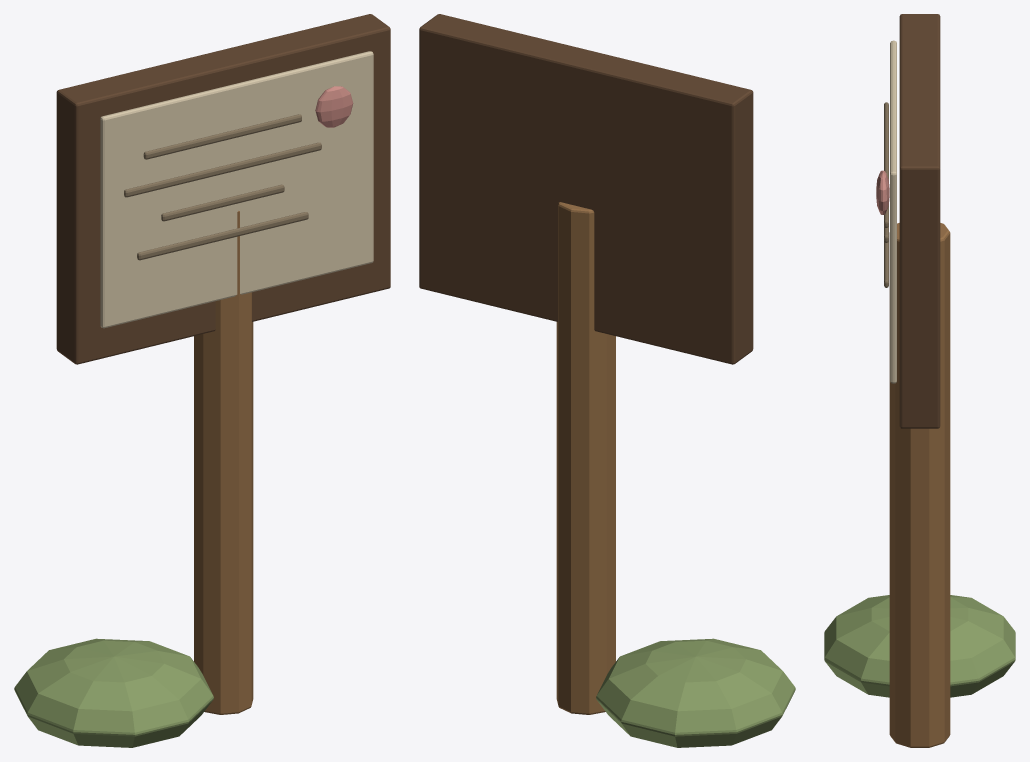
The model's file is field-note.glb.
3 renders of one model, left to right at view 1: azimuth 30°, elevation 25°; view 2: azimuth 150°, elevation 25°; view 3: azimuth 270°, elevation 25°, orthographic.
Visible parts, largest first — view 1: field-note_Discovery_Mesh; view 2: field-note_Discovery_Mesh; view 3: field-note_Discovery_Mesh.
Part boxes in pixels (bbox=[...]): field-note_Discovery_Mesh: bbox=[14, 14, 390, 747]; field-note_Discovery_Mesh: bbox=[419, 14, 795, 747]; field-note_Discovery_Mesh: bbox=[824, 14, 1015, 747].
Size of the model in its own units: 0.8083 by 1.4 by 0.3773.
